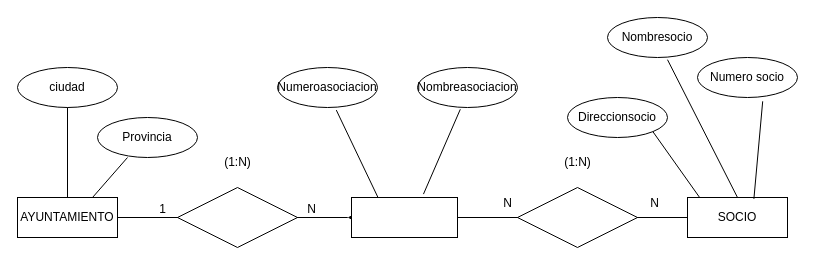
Image size: 815x265. Some labels were removed from this diagram. Each missing label, with the centre of its shape:
"ASOCIACION" goes at point 404,217.
"Dar de alta" goes at point 237,217.
"Recibira" goes at point 577,217.
